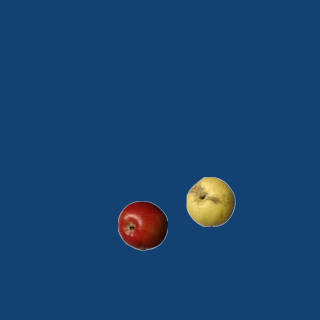Apple Braeburn: (117, 200, 167, 250)
Apple Golden 1: (185, 176, 235, 226)
